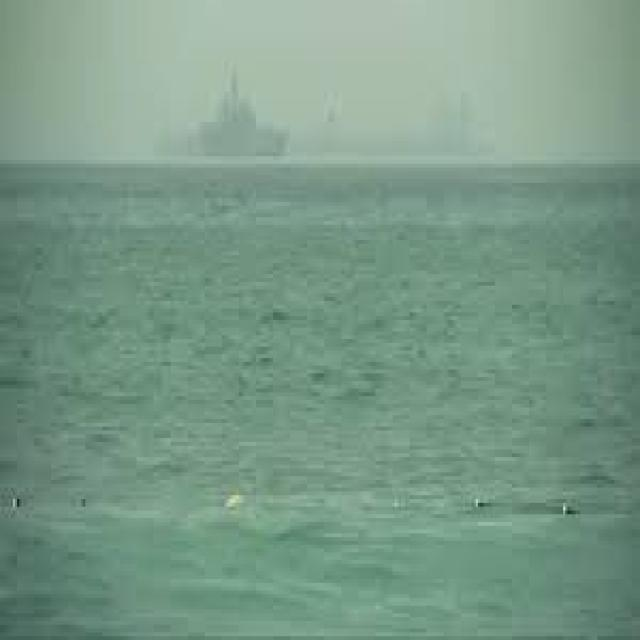cargoship: (168, 75, 290, 185)
